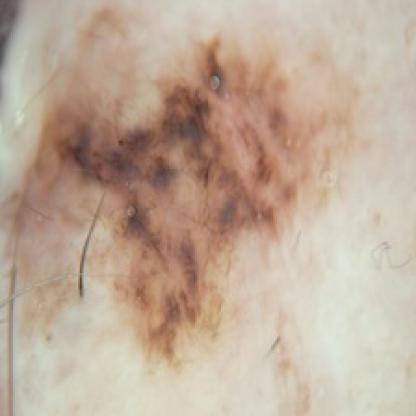malignant: (37, 26, 336, 344)
